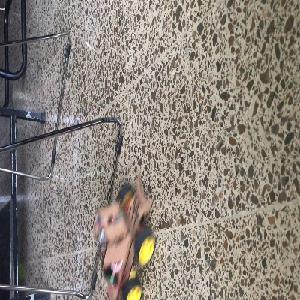Robot: (90, 172, 155, 299)
